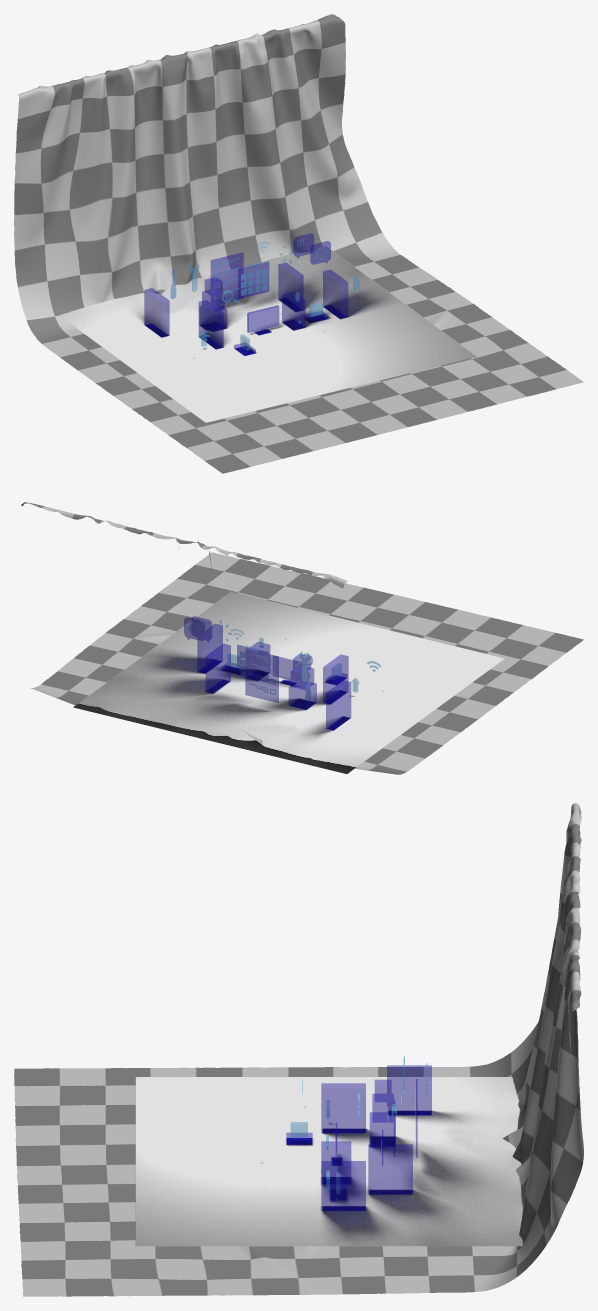
The model's file is material_saperated.glb.
The picture shows the model from 3 angles, top to bottom: view 1: azimuth 30°, elevation 25°; view 2: azimuth 150°, elevation 25°; view 3: azimuth 270°, elevation 25°; orthographic projection. The views are drawn at different scales.
Parts seen in each view (by area): view 1: Cloth Backdrop.002, Plane, Cube.093, Cube.032, Cube.098, Cube.031, Cube.033, Cube.092, box.001, Cube.077, Cube.097; view 2: Plane, Cloth Backdrop.002, Cube.093, Cube.032, Cube.031, Cube.033, Cube.098, Cube.092, Cube.097, Cube.077, Cube.096, Cube.089 (+1 smaller); view 3: Cloth Backdrop.002, Plane, Cube.098, Cube.031, Cube.033, Cube.032, box.001, Cube.097.
Boxes of the visible parts, x1,y1,x2,y2 form: Cloth Backdrop.002: (14,14,583,473); Plane: (59,246,476,422); Cube.093: (211,252,243,303); Cube.032: (144,288,169,337); Cube.098: (323,270,347,318); Cube.031: (278,263,303,311); Cube.033: (199,300,223,349); Cube.092: (238,261,268,298); box.001: (282,292,305,330); Cube.077: (247,305,278,332); Cube.097: (199,303,226,331); Plane: (73,591,504,774); Cloth Backdrop.002: (21,502,583,774); Cube.093: (245,648,278,702); Cube.032: (326,680,350,730); Cube.031: (206,644,230,693); Cube.033: (323,654,348,702); Cube.098: (197,624,222,673); Cube.092: (237,645,268,681); Cube.097: (289,680,316,709); Cube.077: (273,656,301,681); Cube.096: (291,665,313,689); Cube.089: (191,616,211,642); Cloth Backdrop.002: (14,803,583,1296); Plane: (135,1077,522,1246); Cube.098: (321,1161,365,1210); Cube.031: (368,1144,412,1193); Cube.033: (321,1083,365,1132); Cube.032: (387,1065,431,1114); box.001: (321,1141,350,1183); Cube.097: (370,1112,395,1146).
Bounding box in the file's own units: 36.24 × 20.52 × 37.98.
5 materials, 2 textured.
